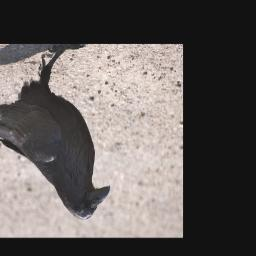Crow: (0, 45, 112, 221)
